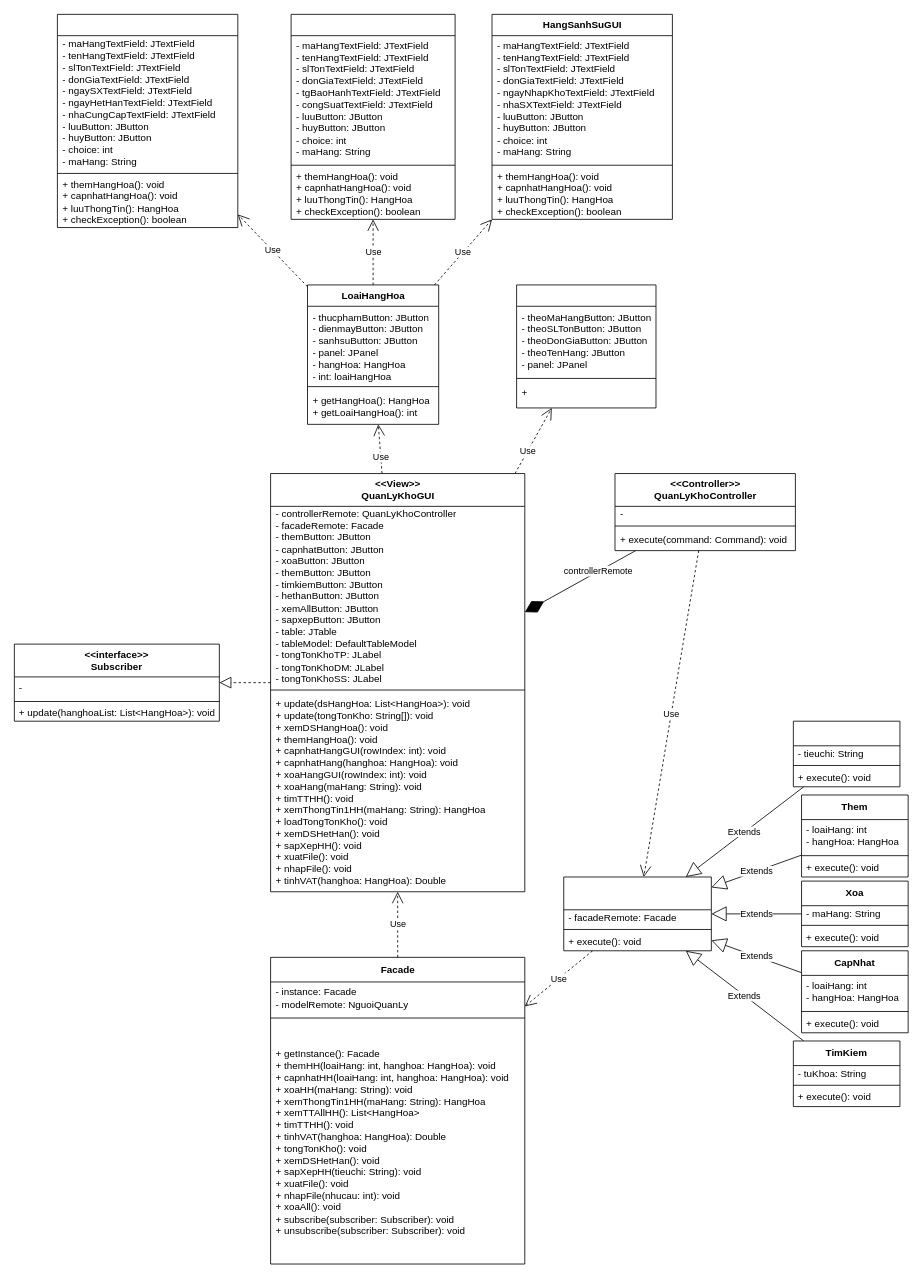
Image size: 923x1278. Some labels were removed from this diagram. Here are the shapes that lost their labels. From the top down, the box of each, then its label:
(57, 14, 238, 228): HangThucPhamGUI
(290, 14, 455, 219): HangDienMayGUI
(516, 284, 656, 408): LoaiSapXep
(793, 720, 900, 787): SapXep
(563, 876, 711, 951): << abstract >> Command
